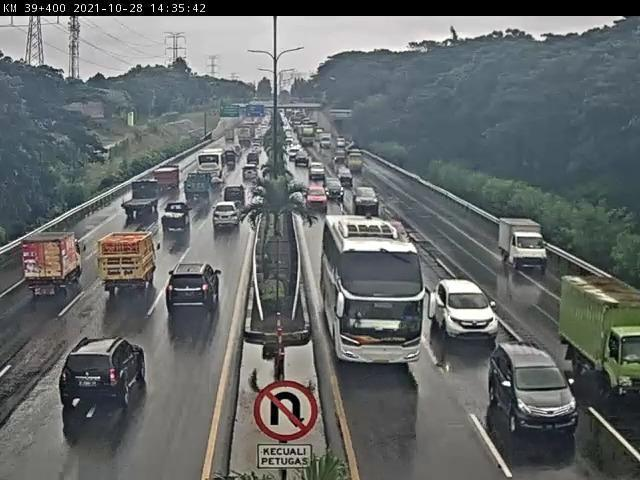bus: (320, 216, 430, 367), (198, 150, 229, 184)
car: (491, 344, 579, 435), (59, 338, 148, 410), (434, 280, 498, 338), (498, 218, 549, 269), (167, 265, 220, 314), (163, 203, 192, 237), (214, 203, 241, 231), (351, 187, 379, 213), (306, 186, 329, 208), (224, 186, 246, 205), (325, 178, 345, 198), (387, 219, 404, 236), (309, 163, 326, 179), (243, 166, 260, 181), (337, 168, 353, 183), (295, 154, 309, 166), (229, 147, 242, 159), (247, 154, 261, 165), (252, 145, 263, 155)
truck: (560, 277, 640, 395), (98, 233, 158, 295), (22, 234, 84, 294), (121, 180, 162, 215), (185, 174, 214, 202), (154, 165, 180, 190), (346, 148, 366, 171), (238, 129, 254, 146), (223, 152, 237, 170)
